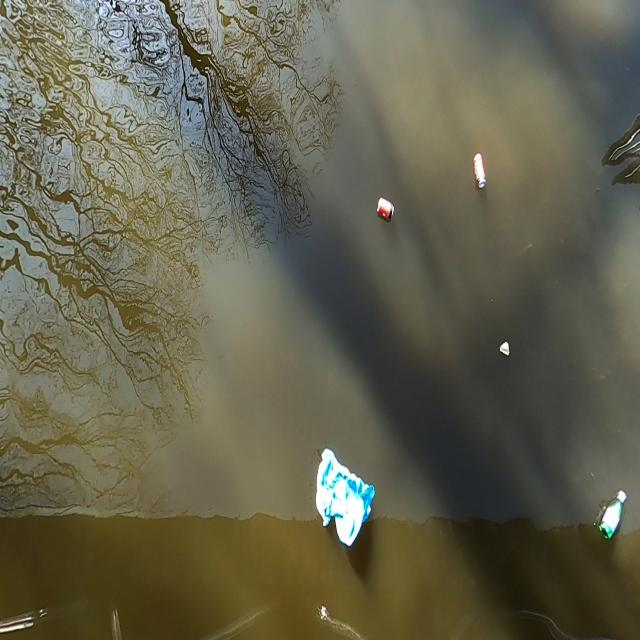Autre plastique: (305, 446, 381, 564), (498, 342, 511, 360)
Bouteille plastique: (595, 486, 628, 543)
Non plastique: (470, 151, 488, 199), (372, 196, 396, 226)
